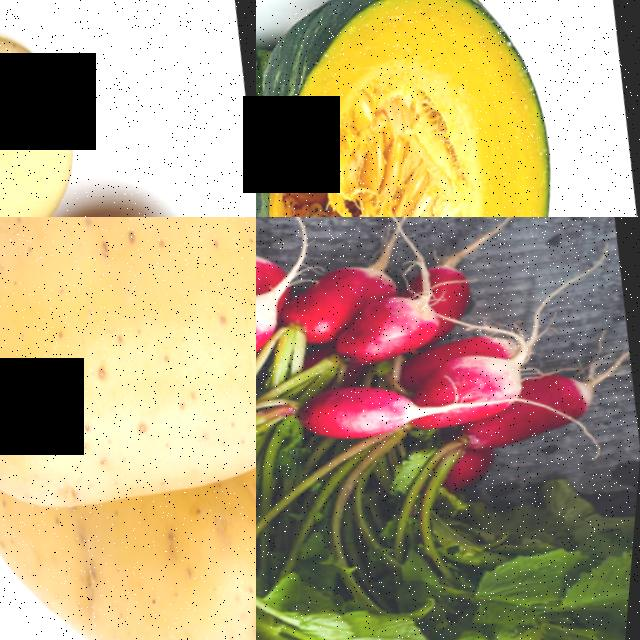potato: (0, 217, 256, 552), (8, 452, 256, 640), (0, 0, 104, 217), (0, 173, 256, 217)
pumpkin: (256, 0, 602, 217), (256, 16, 350, 217)
radishes: (256, 217, 640, 576)
